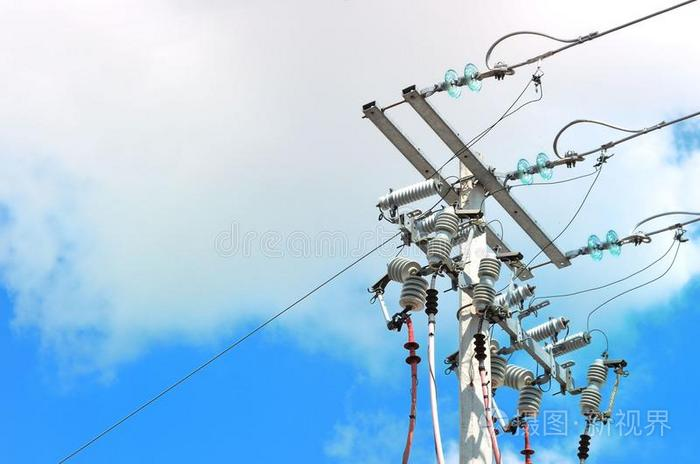insulator: (444, 62, 485, 96), (585, 228, 624, 263), (514, 151, 554, 184)
